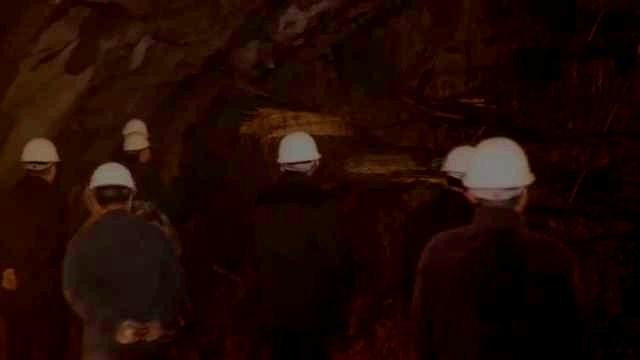helmet: (461, 138, 536, 215), (87, 162, 138, 214), (275, 130, 322, 177), (19, 136, 61, 184), (440, 144, 475, 193), (122, 131, 151, 166), (121, 119, 148, 139)
